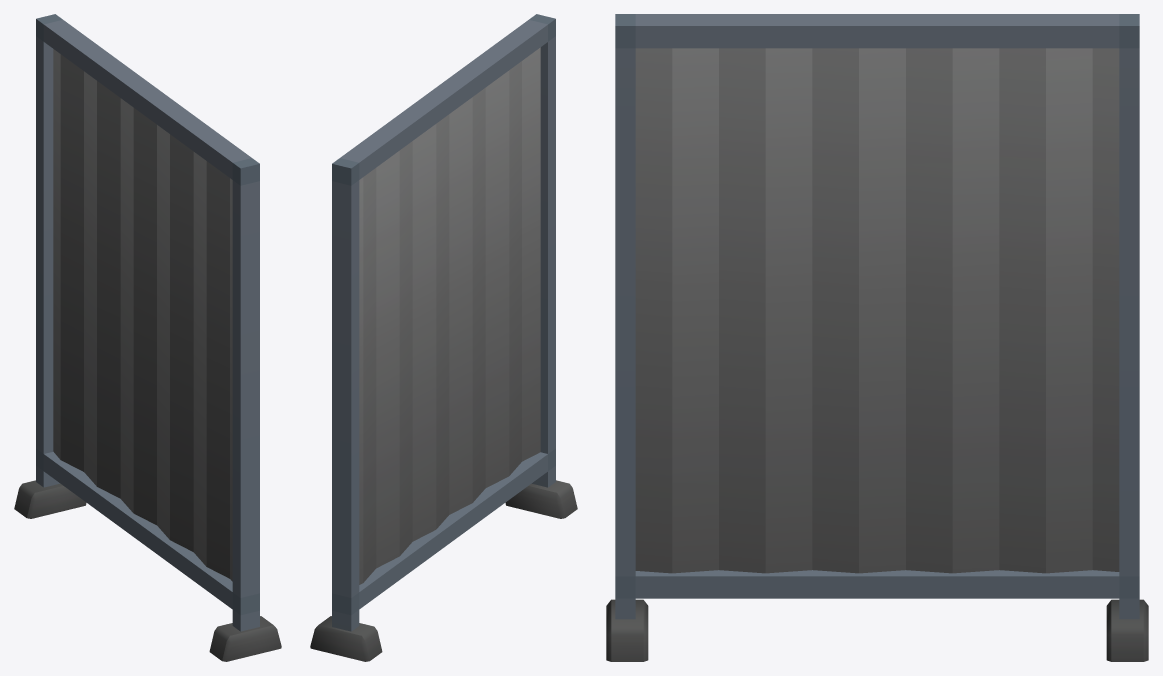
The model's file is Barier_2_3.glb.
3 renders of one model, left to right at view 1: azimuth 30°, elevation 25°; view 2: azimuth 150°, elevation 25°; view 3: azimuth 270°, elevation 25°, orthographic. The views are drawn at different scales.
Visible parts, largest first — view 1: Barier_2_3; view 2: Barier_2_3; view 3: Barier_2_3.
Part boxes in pixels (x1,y1,x2,y2): Barier_2_3: (14, 14, 281, 661); Barier_2_3: (310, 14, 577, 661); Barier_2_3: (606, 14, 1148, 661).
Bounding box in the file's own units: 0.3435 × 2.68 × 2.11.
2 materials, 2 textured.
